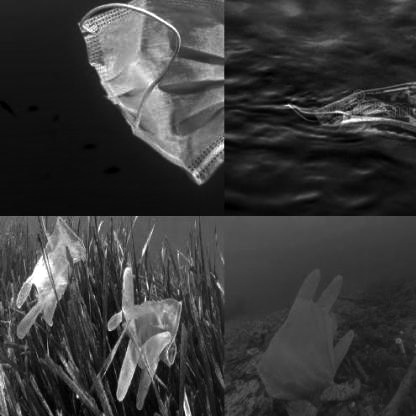Mask: (73, 0, 224, 185), (288, 76, 415, 142)
glove: (259, 269, 362, 404), (106, 266, 186, 415), (12, 216, 90, 345)
